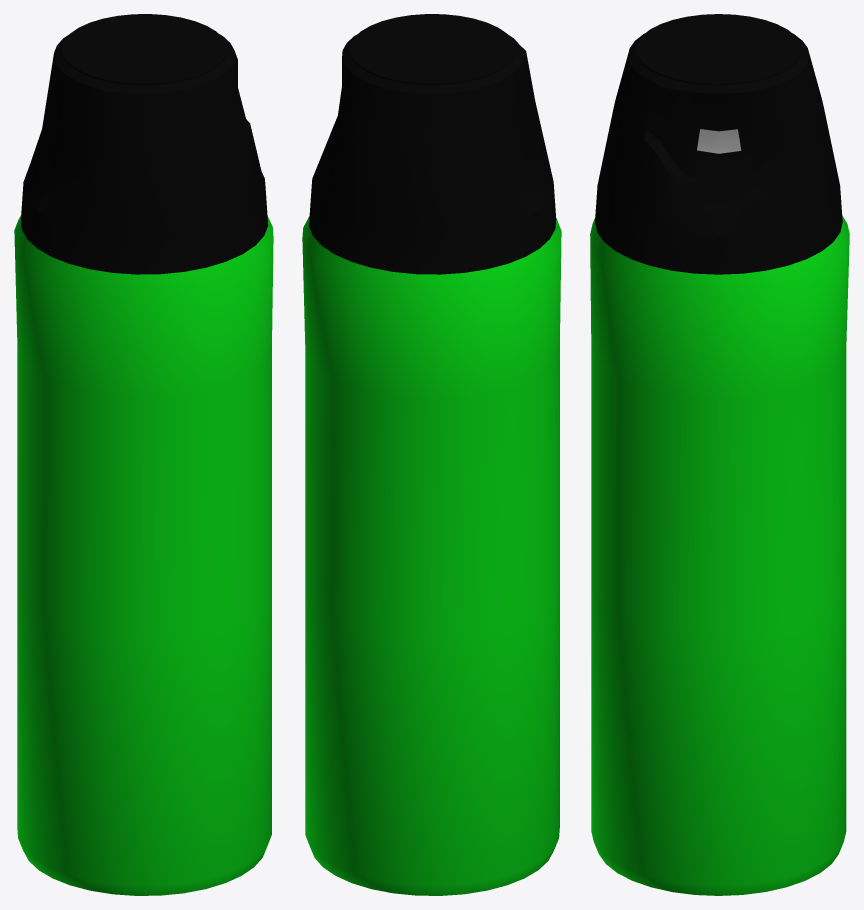
The model's file is baigon1.fbx.
3 renders of one model, left to right at view 1: azimuth 30°, elevation 25°; view 2: azimuth 150°, elevation 25°; view 3: azimuth 270°, elevation 25°, orthographic.
Visible parts, largest first — view 1: cabeca; view 2: cabeca; view 3: cabeca.
Boxes of the visible parts, bbox=[...] form: cabeca: bbox=[14, 14, 273, 895]; cabeca: bbox=[302, 14, 561, 895]; cabeca: bbox=[590, 14, 849, 895].
Bounding box in the file's own units: 54.07 × 183 × 54.07.
